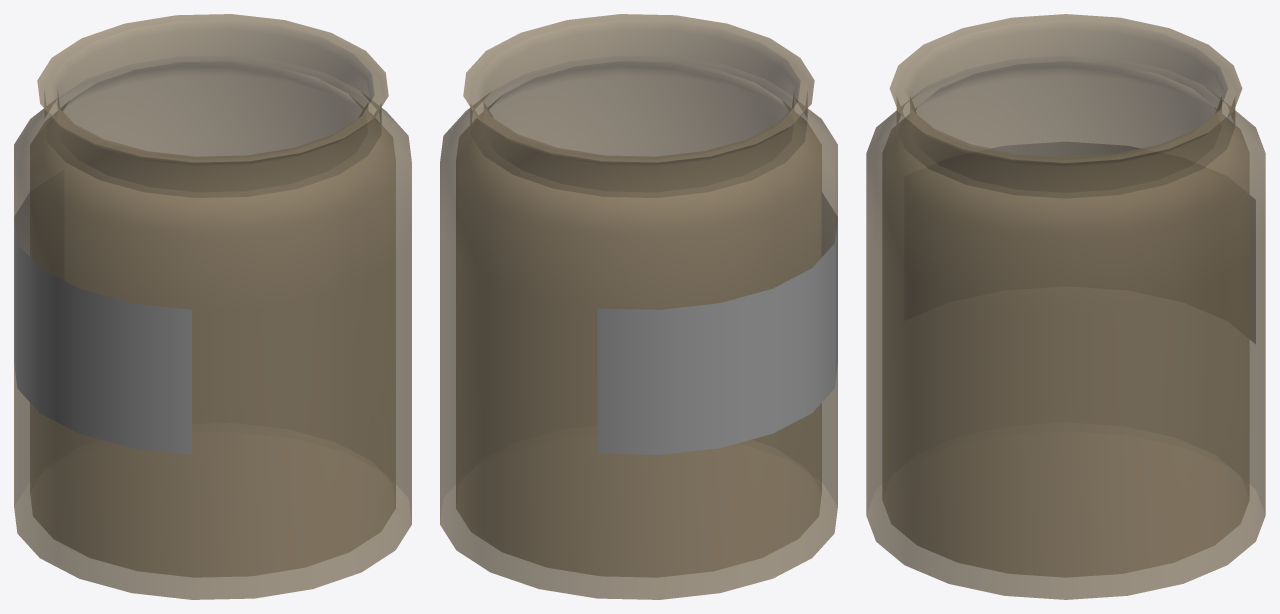
Rendered from fbx_SomaBox.fbx.
3 renders of one model, left to right at view 1: azimuth 30°, elevation 25°; view 2: azimuth 150°, elevation 25°; view 3: azimuth 270°, elevation 25°, orthographic.
Visible parts, largest first — view 1: PillsBox1:pPipe3; view 2: PillsBox1:pPipe3; view 3: PillsBox1:pPipe3.
Boxes of the visible parts, <box> form: PillsBox1:pPipe3: <box>14,14,411,599</box>; PillsBox1:pPipe3: <box>440,14,837,599</box>; PillsBox1:pPipe3: <box>866,14,1265,599</box>.
Bounding box in the file's own units: 5 × 5.9 × 5.
